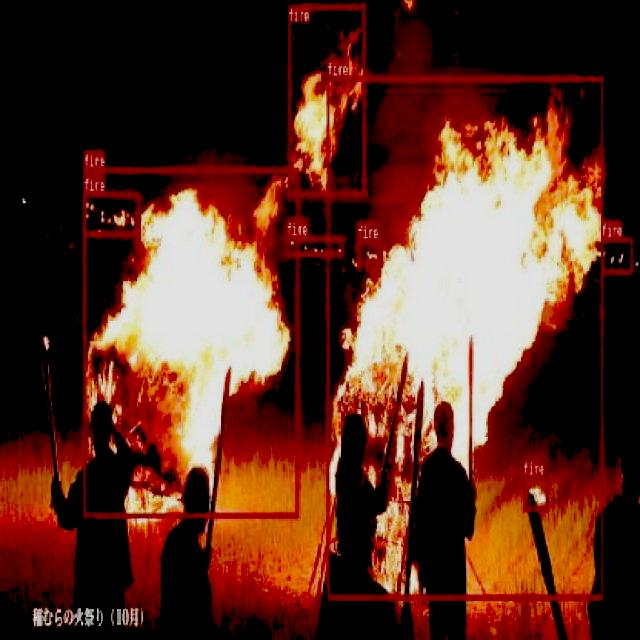fire: (326, 76, 603, 598), (83, 168, 299, 517), (288, 3, 364, 196), (84, 192, 140, 236), (600, 238, 634, 273), (286, 236, 342, 256), (522, 474, 548, 510), (357, 239, 383, 267)
